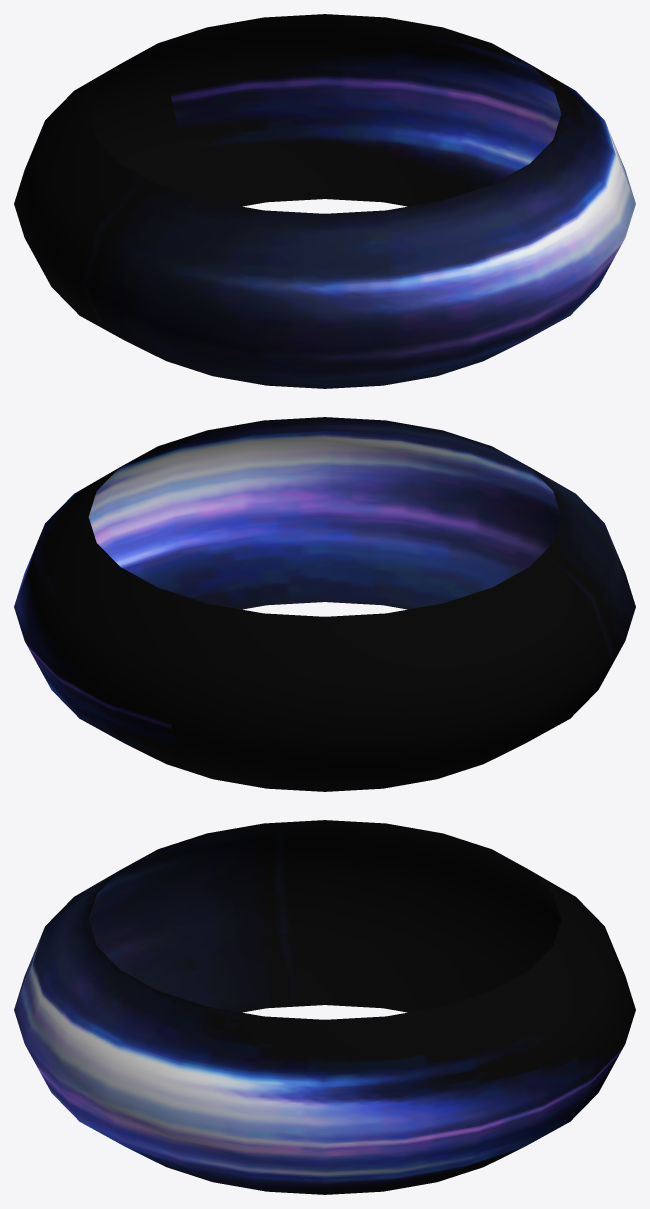
The model's file is fbx_skill_x_102_staff_skill_10.FBX.
3 renders of one model, top to bottom at view 1: azimuth 30°, elevation 25°; view 2: azimuth 150°, elevation 25°; view 3: azimuth 270°, elevation 25°, orthographic.
Parts seen in each view (by area): view 1: Torus001; view 2: Torus001; view 3: Torus001.
Boxes of the visible parts, x1,y1,x2,y2 form: Torus001: (14,14,635,388); Torus001: (14,417,635,791); Torus001: (14,820,635,1194).
Bounding box in the file's own units: 82.85 × 82.85 × 26.46.
Materials: 1 (1 with a texture image).
